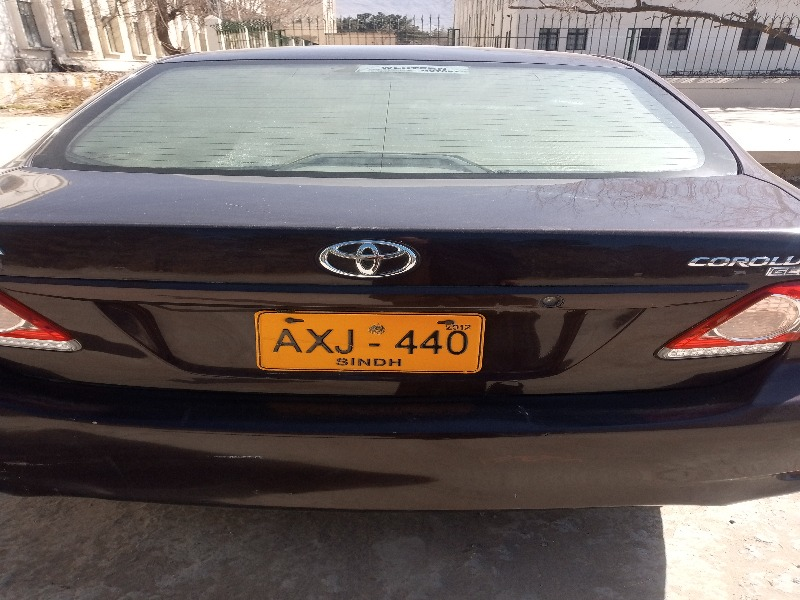License Plate: (251, 303, 487, 383)
